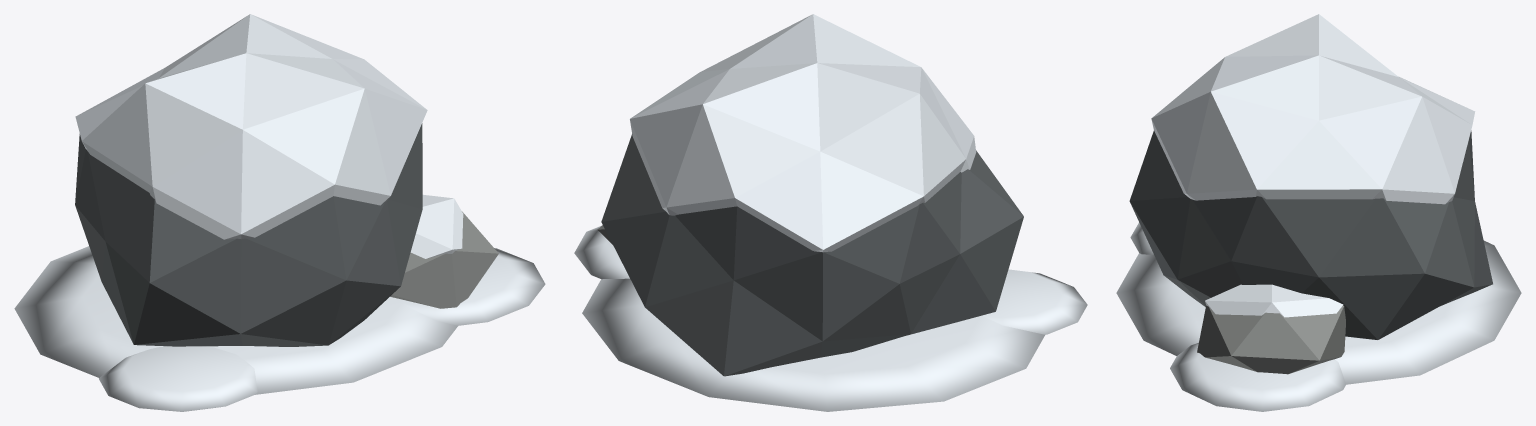
Rendered from RockSnowy.glb.
The picture shows the model from 3 angles, left to right: view 1: azimuth 30°, elevation 25°; view 2: azimuth 150°, elevation 25°; view 3: azimuth 270°, elevation 25°; orthographic projection. The views are drawn at different scales.
Visible parts, largest first — view 1: Body; view 2: Body; view 3: Body.
Part boxes in pixels (x1,y1,x2,y2): Body: [14, 14, 545, 411]; Body: [574, 14, 1087, 411]; Body: [1116, 14, 1521, 411].
Bounding box in the file's own units: 5.4 × 2.95 × 4.32.
1 material, 1 textured.
